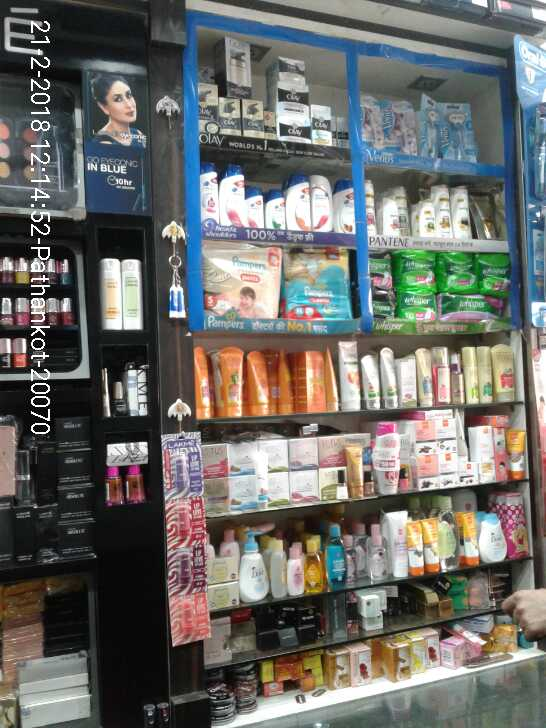venus: (381, 97, 417, 151), (441, 103, 475, 159), (417, 97, 441, 159)
